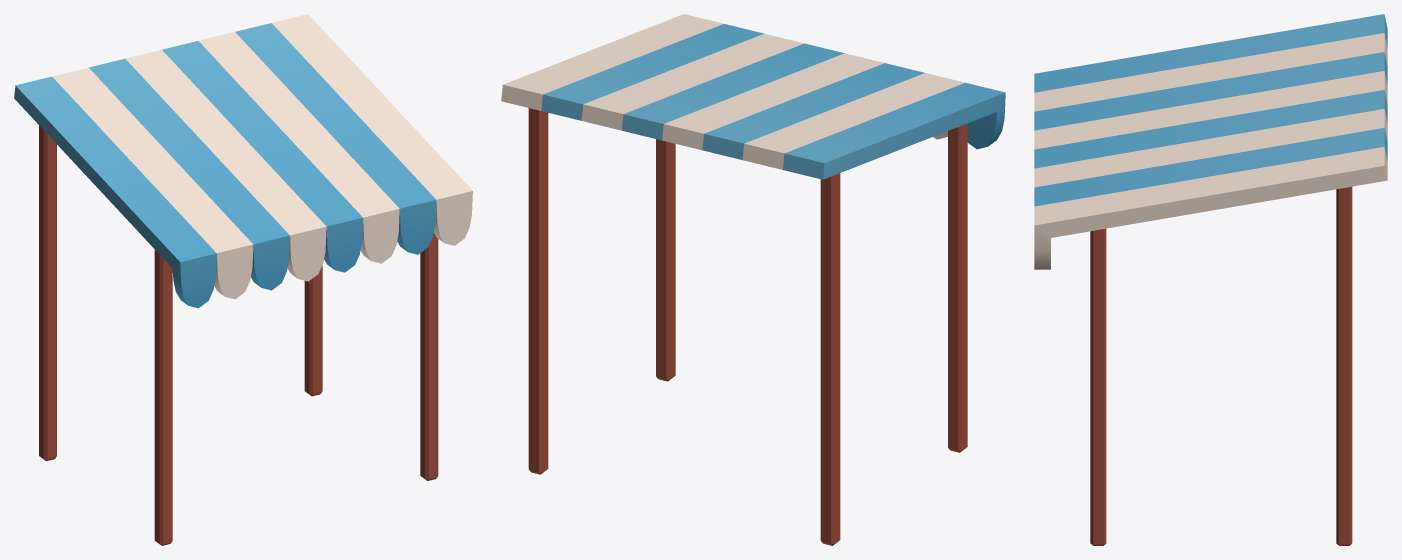
File: Mai che 2.fbx
3 renders of one model, left to right at view 1: azimuth 30°, elevation 25°; view 2: azimuth 150°, elevation 25°; view 3: azimuth 270°, elevation 25°, orthographic. The views are drawn at different scales.
Visible parts, largest first — view 1: Mai_che_2; view 2: Mai_che_2; view 3: Mai_che_2.
Boxes of the visible parts, <box> form: Mai_che_2: <box>14,14,472,545</box>; Mai_che_2: <box>501,14,1005,545</box>; Mai_che_2: <box>1034,14,1387,545</box>.
Bounding box in the file's own units: 512 × 606 × 504.
